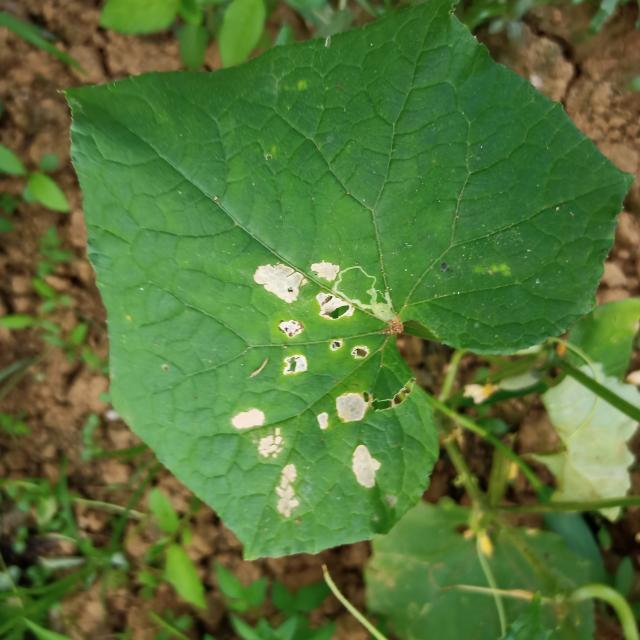disease_cucumber: (232, 260, 380, 516)
